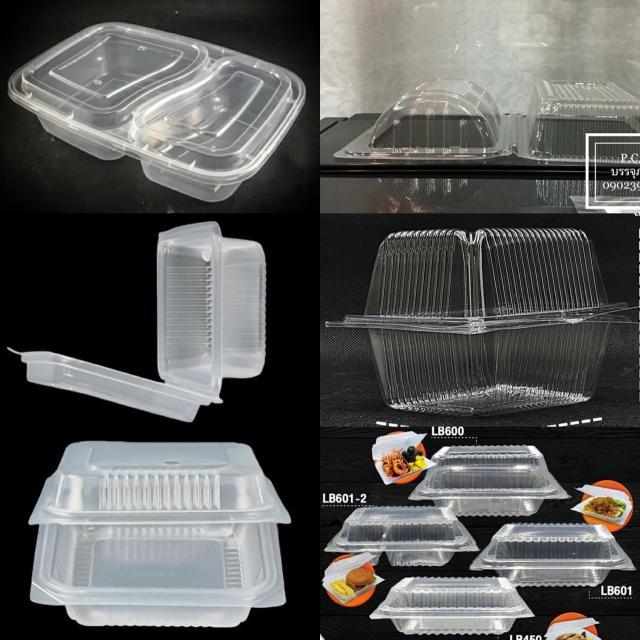plastik: (327, 229, 625, 414), (9, 22, 305, 201), (14, 221, 265, 421), (30, 441, 290, 626), (337, 79, 639, 162), (409, 445, 569, 516), (470, 522, 634, 586), (370, 576, 534, 635), (325, 506, 478, 566)
